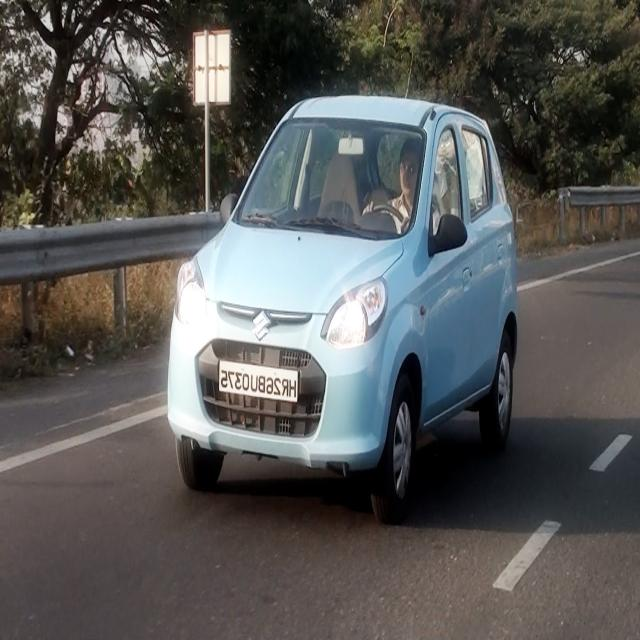number-plate: (215, 360, 308, 412)
